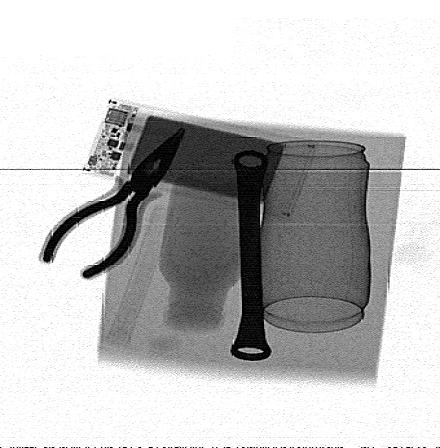Pliers: (38, 125, 187, 279)
Powerbank: (78, 97, 316, 222)
Wrench: (229, 148, 275, 361)
